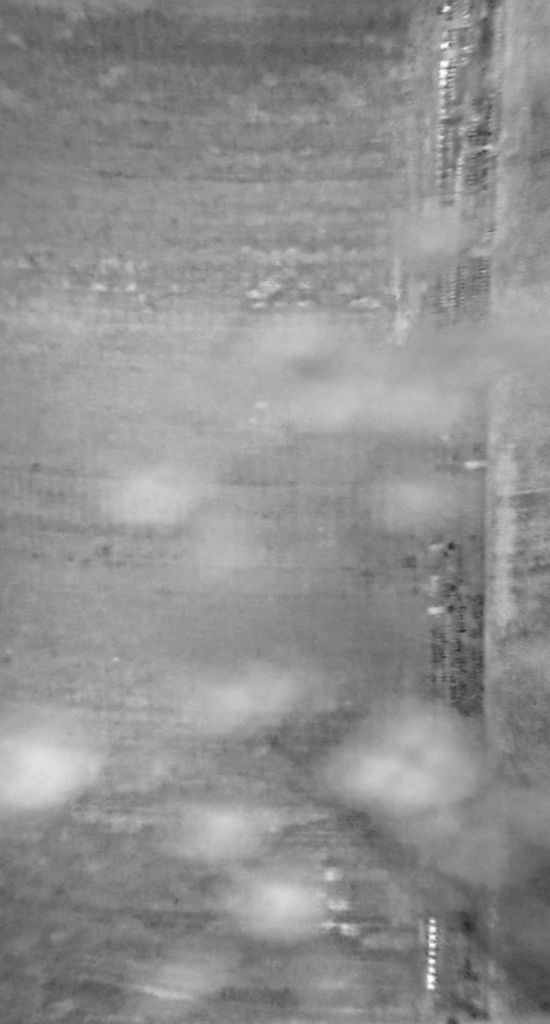splice: (408, 1, 505, 1021)
